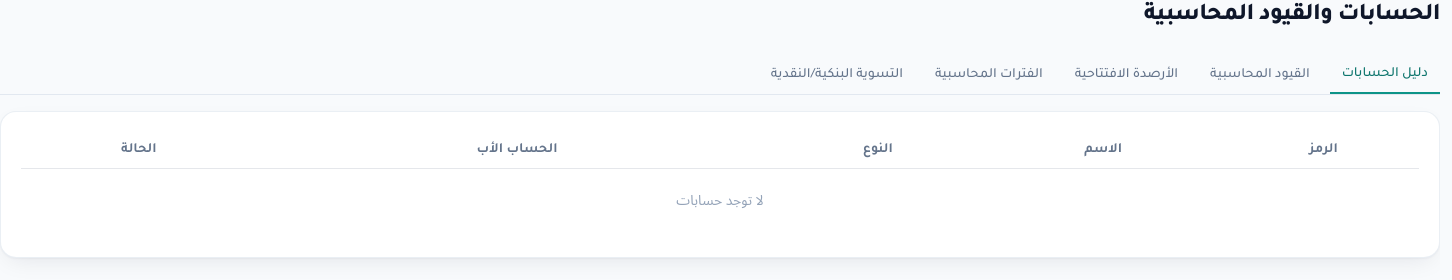
Test case: AccountingPage - Opening Balances / Fiscal Periods tabs › Opening Balances tab shows the empty state, and only offers "record" when accounting.opening_balance.manage is granted
Click the button "الأرصدة الافتتاحية" at (1126,75), box [1063,56,1190,94]
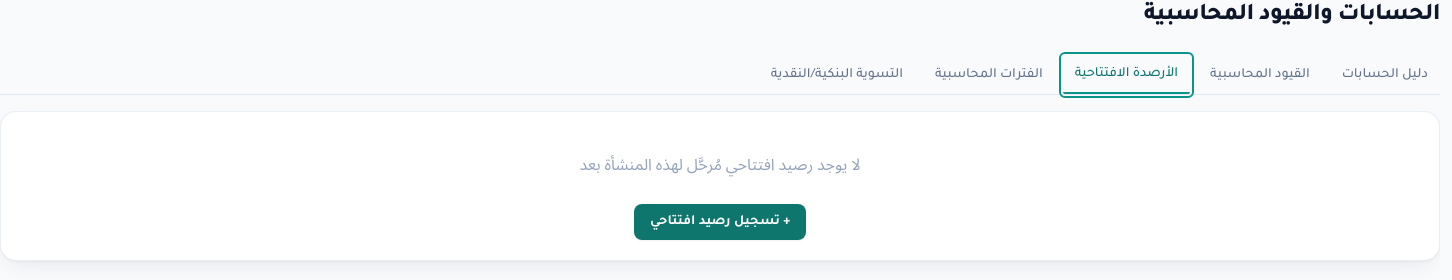
Expected: the text "لا يوجد رصيد افتتاحي مُرحَّل لهذه المنشأة بعد" is shown, [580,160,860,176]
Expected: the button "+ تسجيل رصيد افتتاحي" is shown, [634,204,806,240]
